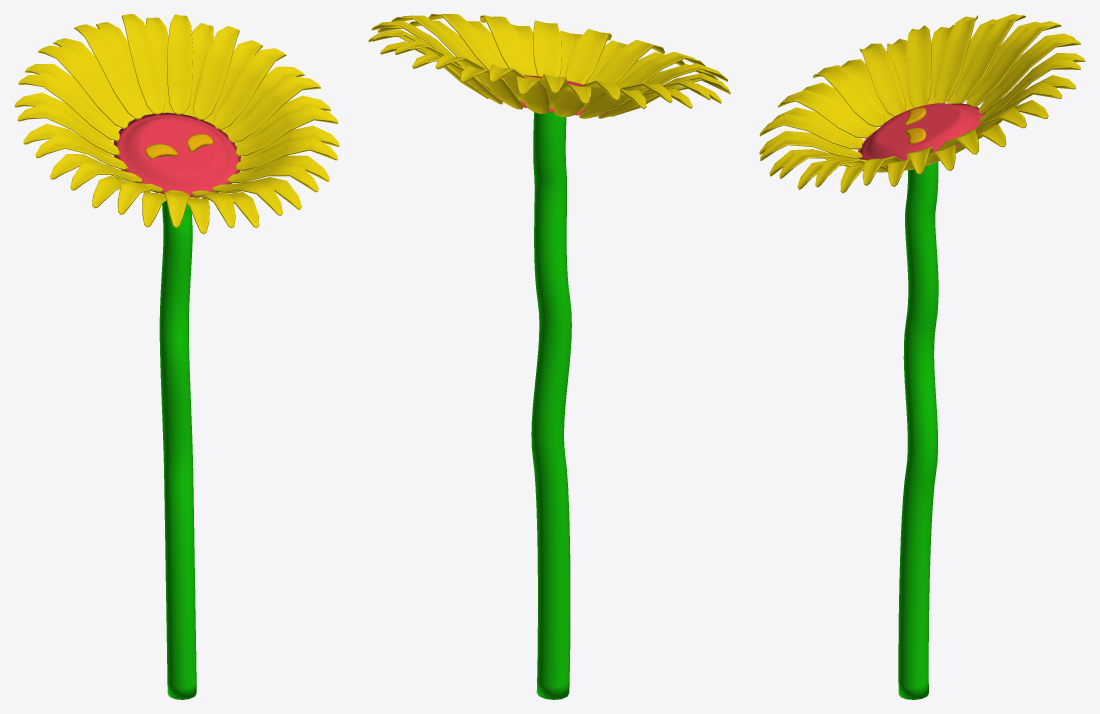
Rendered from Sunflower_lp.fbx.
The picture shows the model from 3 angles, left to right: view 1: azimuth 30°, elevation 25°; view 2: azimuth 150°, elevation 25°; view 3: azimuth 270°, elevation 25°; orthographic projection. The views are drawn at different scales.
Parts seen in each view (by area): view 1: Plane.001, BezierCurve, Circle, Body_hp.002; view 2: Plane.001, BezierCurve; view 3: Plane.001, BezierCurve, Circle, Body_hp.002.
Boxes of the visible parts, left/top/right/bottom form: Plane.001: left=14, top=14, right=339, bottom=234; BezierCurve: left=159, top=201, right=196, bottom=699; Circle: left=113, top=112, right=241, bottom=197; Body_hp.002: left=145, top=133, right=212, bottom=158; Plane.001: left=368, top=14, right=730, bottom=118; BezierCurve: left=531, top=112, right=571, bottom=699; Plane.001: left=759, top=14, right=1085, bottom=193; BezierCurve: left=898, top=162, right=938, bottom=699; Circle: left=858, top=103, right=985, bottom=167; Body_hp.002: left=905, top=107, right=926, bottom=143.
Size of the model in its own units: 2205 by 4580 by 2108.
